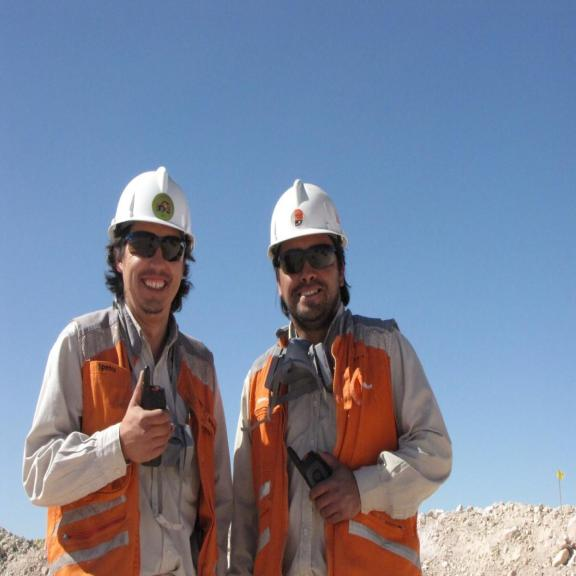safety_vest: (239, 307, 434, 561), (53, 307, 221, 561)
